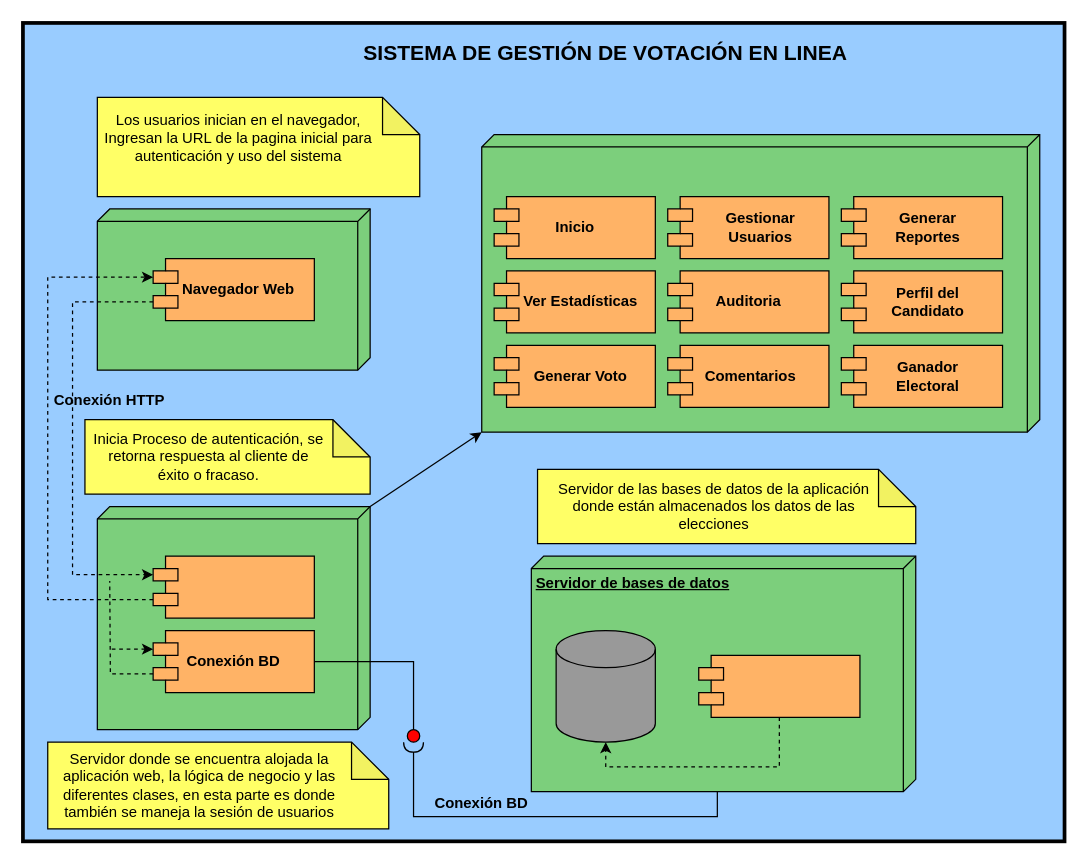
Image size: 1087x864. Some labels were removed from this diagram. The box of each missing label's shape, as (x1, y1, x2, y2) in pixels:
Bases de datos: (555, 629, 655, 742)
Cliente/Ususario: (96, 208, 370, 370)
MySQL: (698, 654, 860, 717)
Módulos del Aplicativo: (480, 133, 1040, 432)
Servidor de Aplicaciones: (96, 505, 370, 730)
Servidor HTTP: (152, 555, 314, 618)
